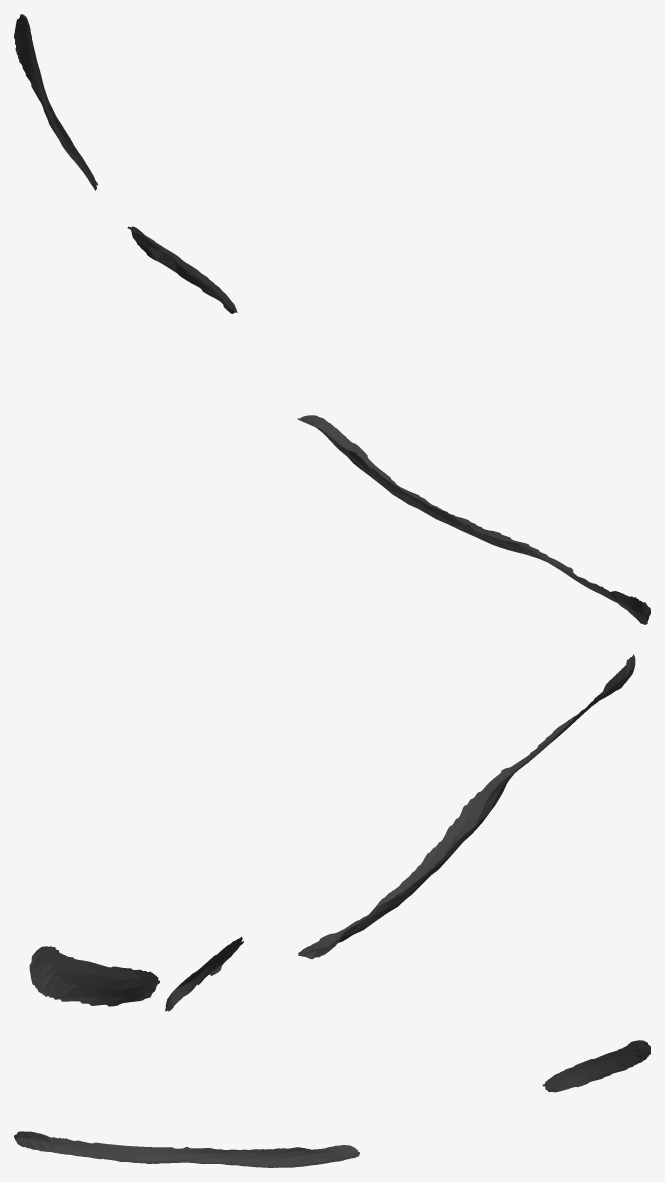
Rendered from a_brachial.glb.
The picture shows the model from 3 angles, top to bottom: view 1: azimuth 30°, elevation 25°; view 2: azimuth 150°, elevation 25°; view 3: azimuth 270°, elevation 25°; orthographic projection. The views are drawn at different scales.
Parts seen in each view (by area): view 1: a_brachial; view 2: a_brachial; view 3: a_brachial.
Boxes of the visible parts, <box> form: a_brachial: <box>14,14,650,624</box>; a_brachial: <box>29,654,635,1011</box>; a_brachial: <box>14,1040,650,1167</box>.
Bounding box in the file's own units: 0.0221 × 0.0612 × 0.295.
Materials: 1 (1 with a texture image).
